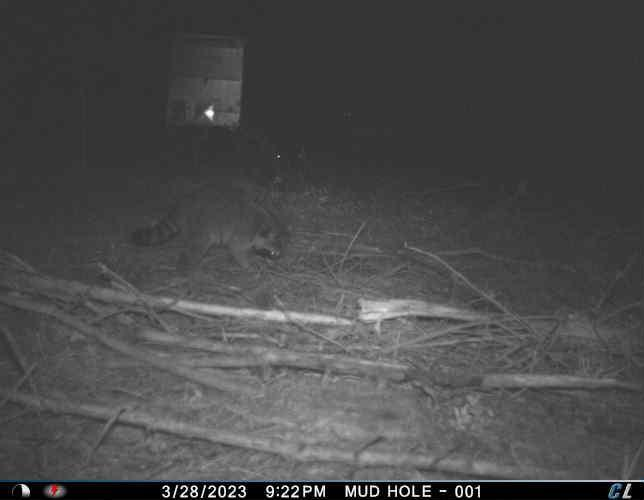Raccoon: (129, 170, 291, 276)
